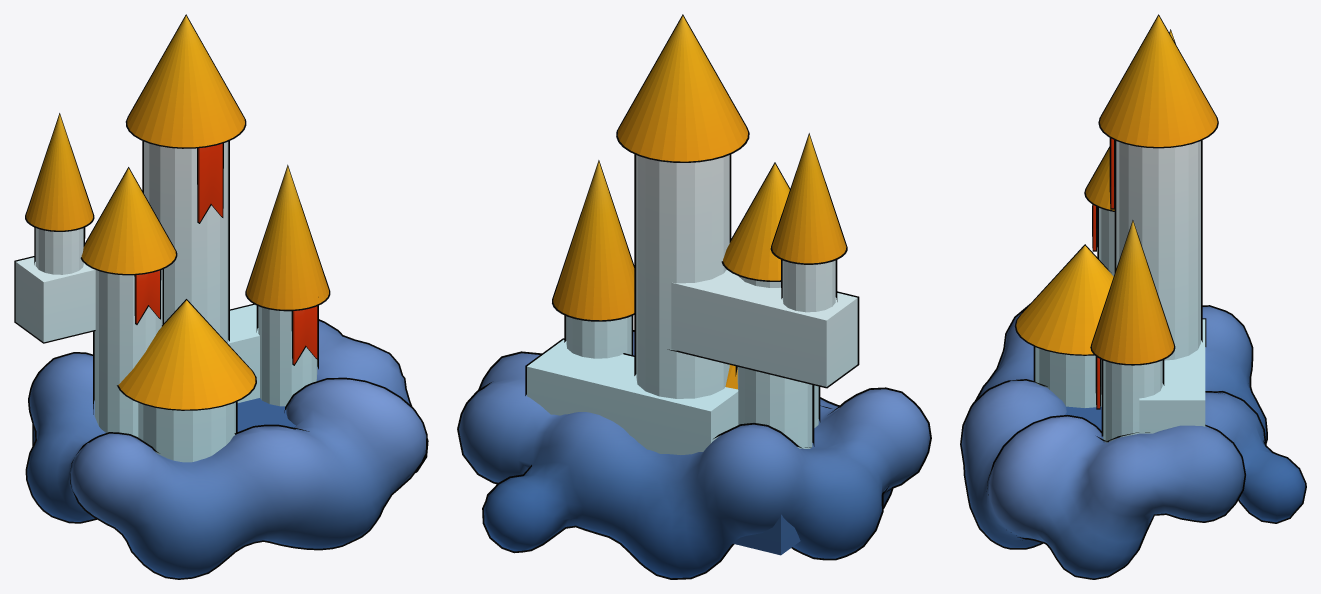
Rendered from environment_castle.fbx.
The picture shows the model from 3 angles, left to right: view 1: azimuth 30°, elevation 25°; view 2: azimuth 150°, elevation 25°; view 3: azimuth 270°, elevation 25°; orthographic projection. The views are drawn at different scales.
Parts seen in each view (by area): view 1: King.001; view 2: King.001; view 3: King.001.
Boxes of the visible parts, left/top/right/bottom form: King.001: left=14, top=14, right=428, bottom=579; King.001: left=457, top=14, right=931, bottom=579; King.001: left=960, top=14, right=1306, bottom=579.
Bounding box in the file's own units: 1280 × 1658 × 1051.
